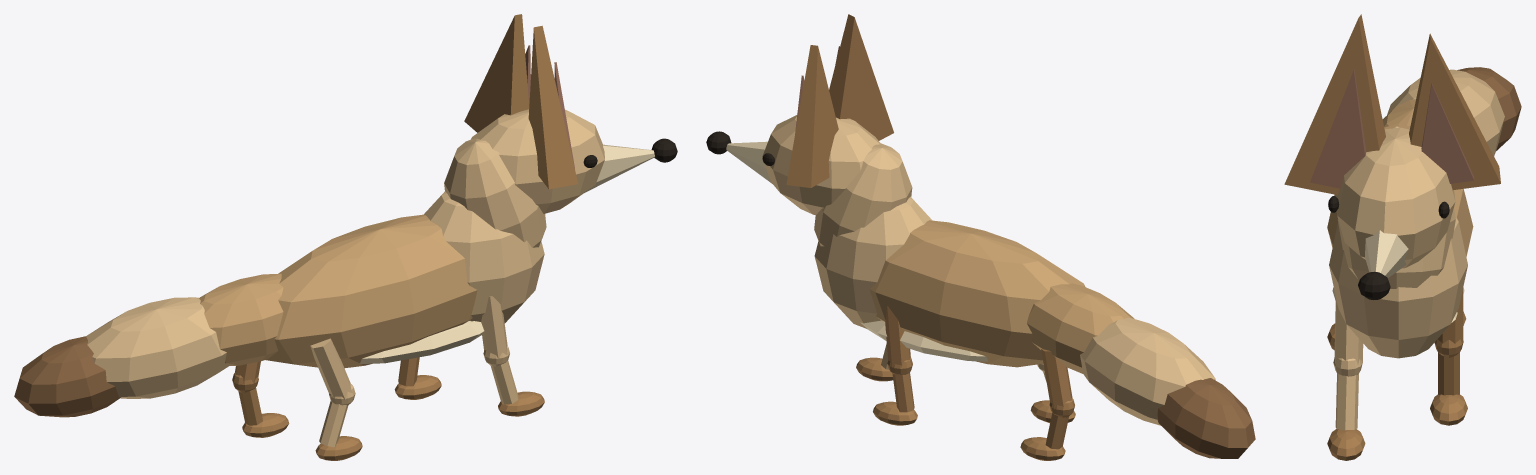
File: fennec_fox.glb
The picture shows the model from 3 angles, left to right: view 1: azimuth 30°, elevation 25°; view 2: azimuth 150°, elevation 25°; view 3: azimuth 270°, elevation 25°; orthographic projection. The views are drawn at different scales.
Visible parts, largest first — view 1: Body, Tail_Middle, Chest, Head, Neck, Tail_Tip, Tail_Base, Ear_Near, Ear_Far, Underside, RearNear_Upper, PointedMuzzle (+7 smaller); view 2: Body, Tail_Middle, Chest, Tail_Tip, Tail_Base, Head, Neck, Ear_Far, Ear_Near, Underside, RearFar_Upper, FrontFar_Upper (+6 smaller); view 3: Head, Chest, Ear_Near, Ear_Far, EarInner_Near, Tail_Middle, EarInner_Far, Neck, Tail_Tip, PointedMuzzle, FrontNear_Lower, Body (+9 smaller).
Part boxes in pixels (box(x1,y1,x2,y2)): Body: box(266, 214, 477, 368); Tail_Middle: box(86, 297, 231, 398); Chest: box(424, 191, 544, 323); Head: box(471, 109, 604, 213); Neck: box(444, 138, 546, 247); Tail_Tip: box(14, 336, 120, 417); Tail_Base: box(199, 273, 283, 365); Ear_Near: box(528, 25, 577, 189); Ear_Far: box(464, 14, 529, 132); Underside: box(359, 321, 484, 363); RearNear_Upper: box(310, 338, 352, 399); PointedMuzzle: box(585, 144, 654, 192); Body: box(869, 220, 1085, 367); Tail_Middle: box(1080, 318, 1215, 425); Chest: box(814, 196, 932, 328); Tail_Tip: box(1157, 378, 1255, 458); Tail_Base: box(1027, 283, 1134, 373); Head: box(762, 115, 879, 215); Neck: box(814, 143, 912, 246); Ear_Far: box(786, 45, 838, 187); Ear_Near: box(829, 14, 893, 140); Underside: box(860, 320, 987, 361); RearFar_Upper: box(1041, 348, 1072, 409); FrontFar_Upper: box(885, 306, 910, 367); Head: box(1334, 127, 1455, 268); Chest: box(1329, 215, 1467, 358); Ear_Near: box(1284, 14, 1385, 194); Ear_Far: box(1409, 33, 1500, 189); EarInner_Near: box(1310, 69, 1366, 188); Tail_Middle: box(1387, 69, 1504, 155); EarInner_Far: box(1421, 83, 1474, 183); Neck: box(1337, 126, 1455, 288); Tail_Tip: box(1457, 67, 1521, 150); PointedMuzzle: box(1365, 230, 1408, 277); FrontNear_Lower: box(1335, 373, 1358, 430); Body: box(1327, 123, 1473, 256).
Size of the model in its own units: 4.87 by 2.87 by 1.36.
